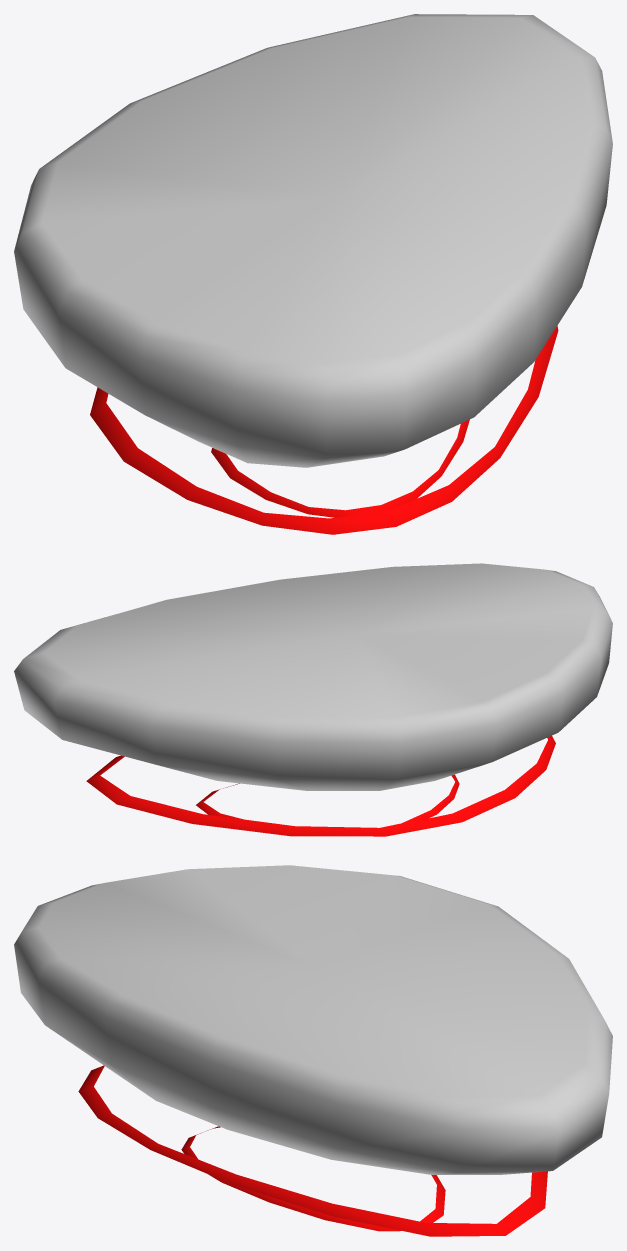
The model's file is SM_Table_002.fbx.
The picture shows the model from 3 angles, top to bottom: view 1: azimuth 30°, elevation 25°; view 2: azimuth 150°, elevation 25°; view 3: azimuth 270°, elevation 25°; orthographic projection. The views are drawn at different scales.
Visible parts, largest first — view 1: polySurface8; view 2: polySurface8; view 3: polySurface8.
Part boxes in pixels (x1,y1,x2,y2): polySurface8: (14,14,612,534); polySurface8: (14,563,612,836); polySurface8: (14,865,612,1236).
Bounding box in the file's own units: 271 × 98.16 × 270.
